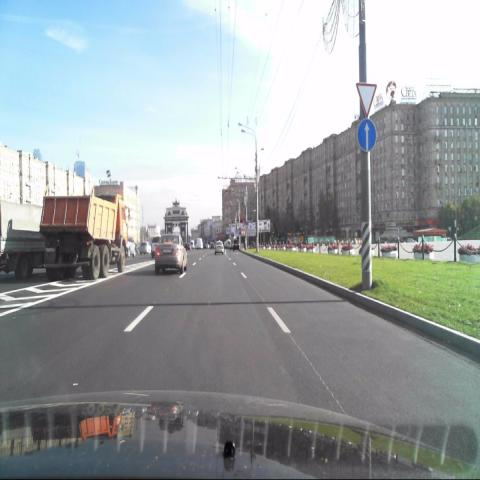4_1_1: (357, 116, 378, 154)
